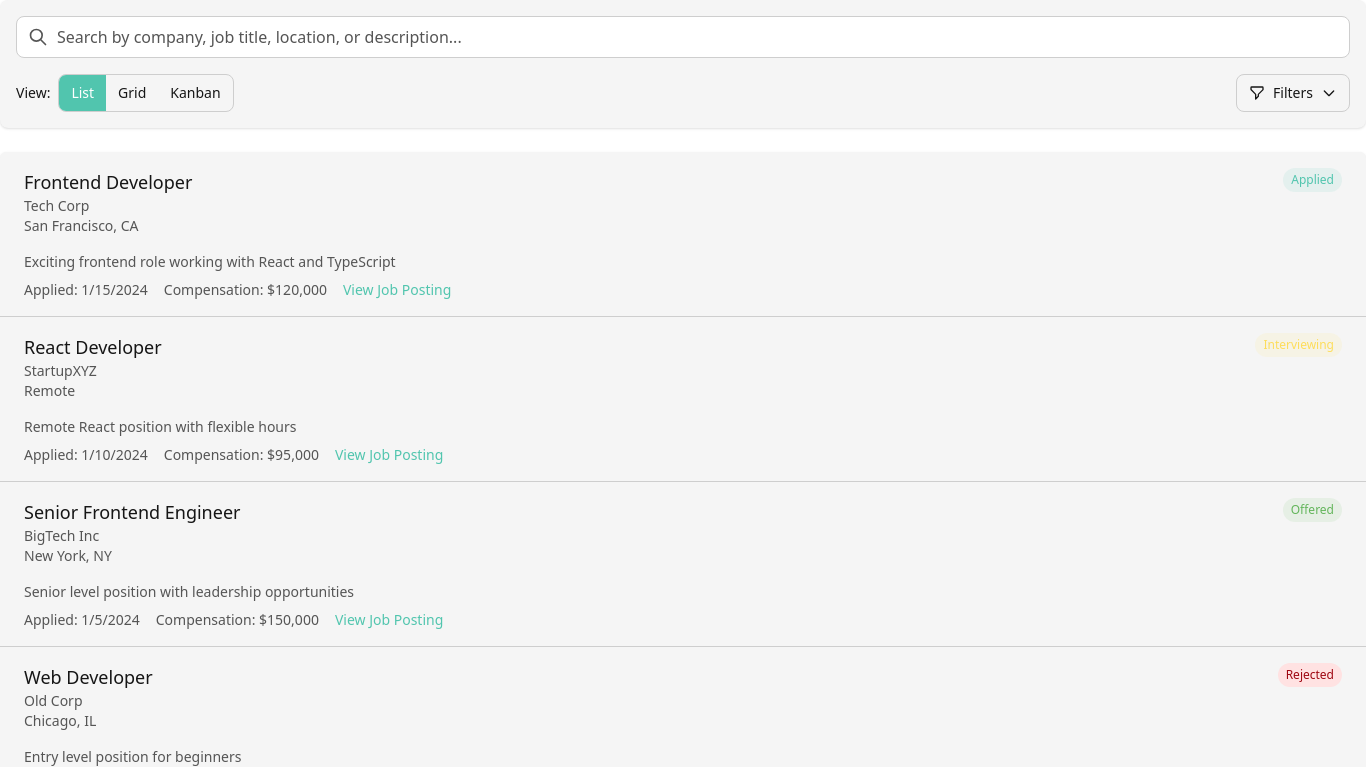
Test: ApplicationsView Component › Status Filter › should filter applications by status when status filter is changed
The width and height of the screenshot is (1366, 767).
Click the button with test id "toggle-filters-button".
click(1293, 93)  # box [1236,74,1350,112]
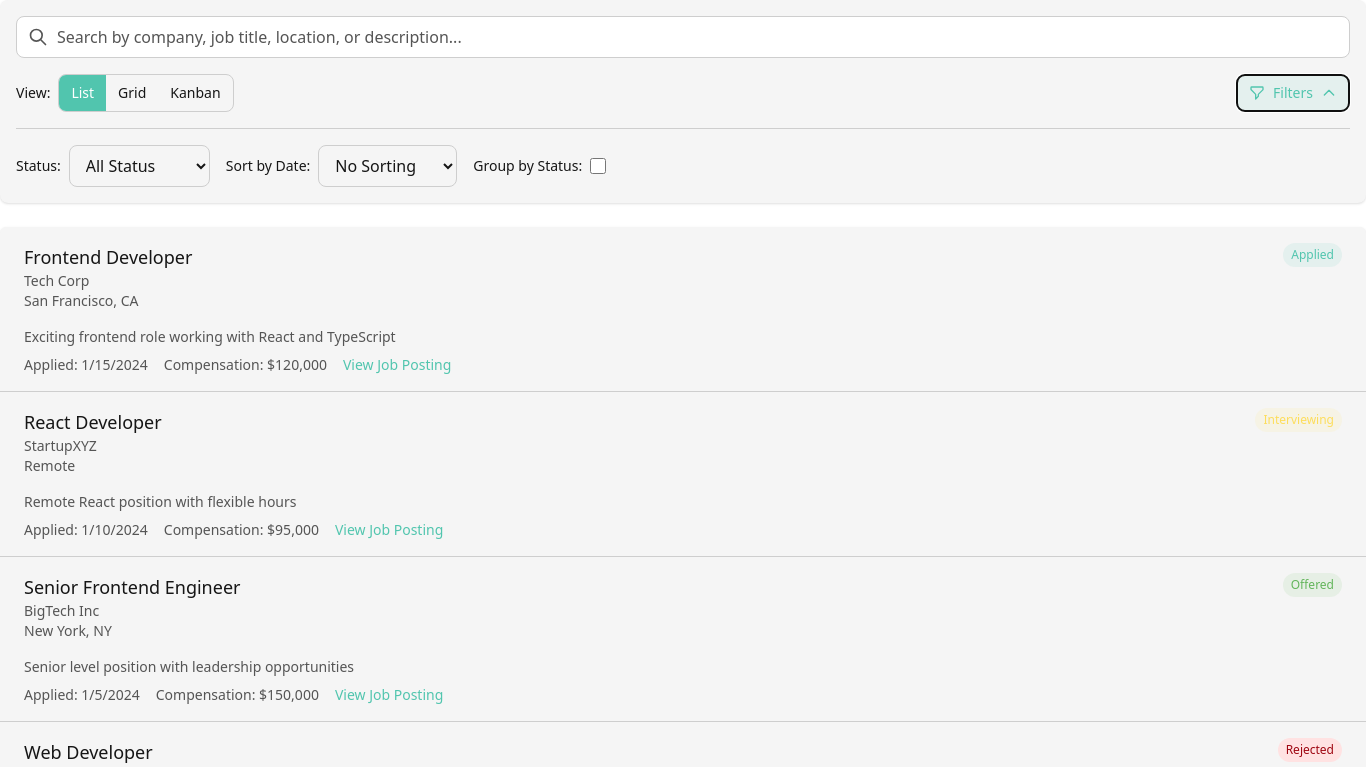
Select "Applied" in the dropdown with test id "status-filter" at (139, 166), box [69,145,210,187]
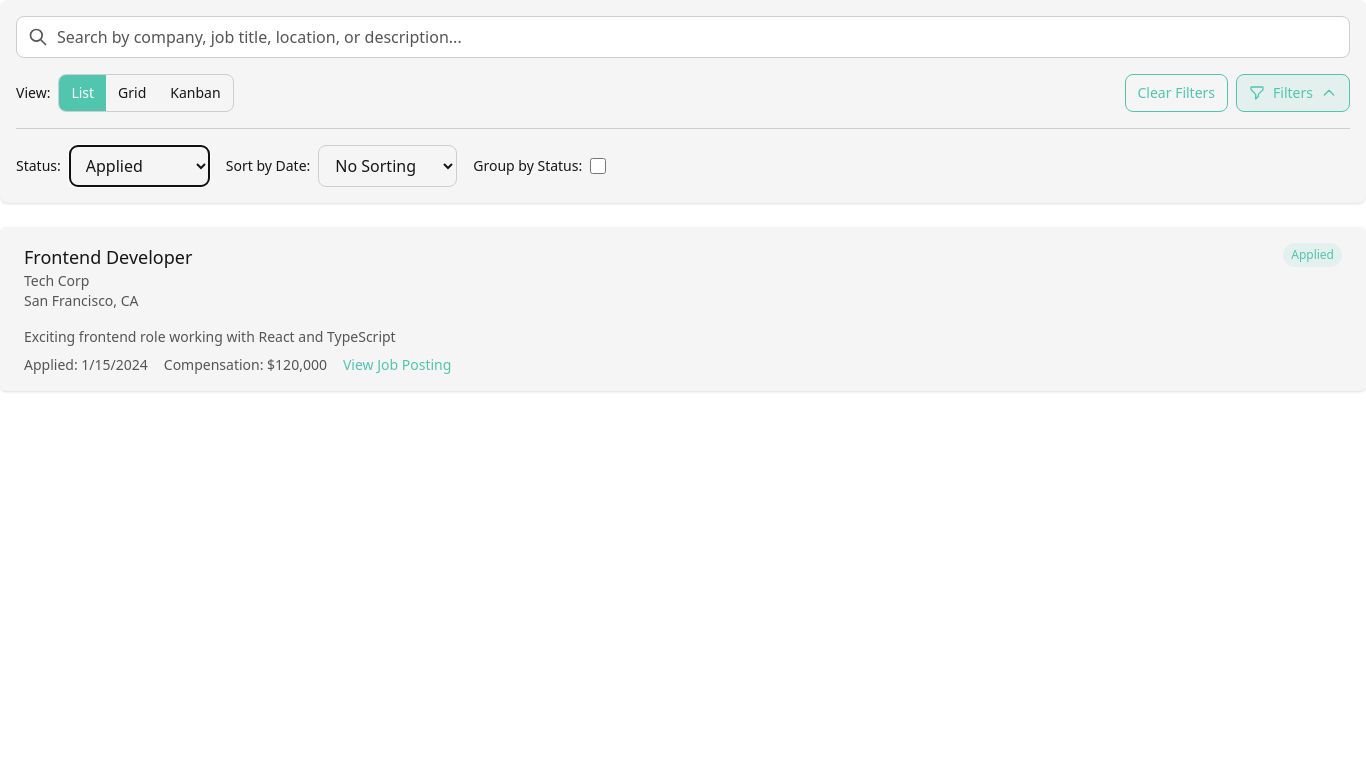
Expected: the text "Tech Corp" is shown, [24,271,89,290]
Result: the text "StartupXYZ" is gone
Result: the text "BigTech Inc" is gone
